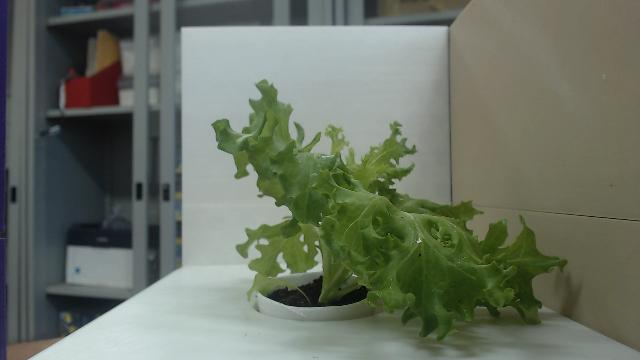Harvest Stage: (210, 78, 568, 344)
